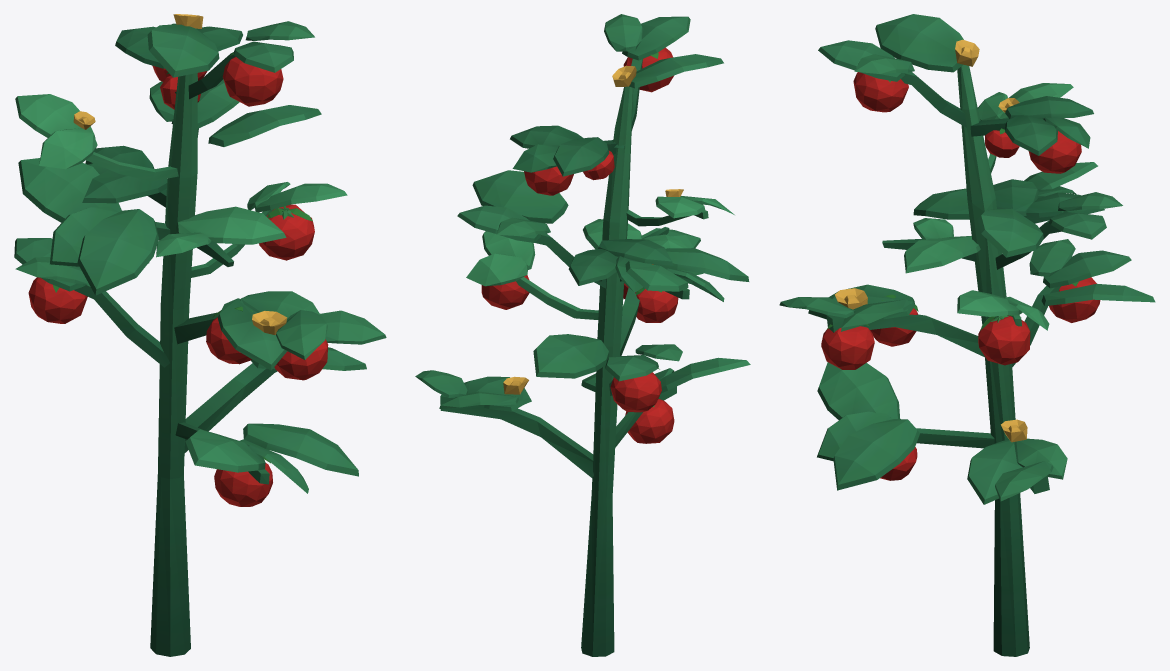
The model's file is crop_tomato_stage3.glb.
3 views of the same model, side by side, from view 1: azimuth 30°, elevation 25°; view 2: azimuth 150°, elevation 25°; view 3: azimuth 270°, elevation 25° (orthographic). The views are drawn at different scales.
Visible parts, largest first — view 1: crop_tomato_stage3; view 2: crop_tomato_stage3; view 3: crop_tomato_stage3.
Part boxes in pixels (x1,y1,x2,y2): crop_tomato_stage3: (14,14,386,656); crop_tomato_stage3: (415,14,750,656); crop_tomato_stage3: (779,14,1155,656).
Bounding box in the file's own units: 0.5584 × 1 × 0.559.
Materials: 1 (1 with a texture image).
